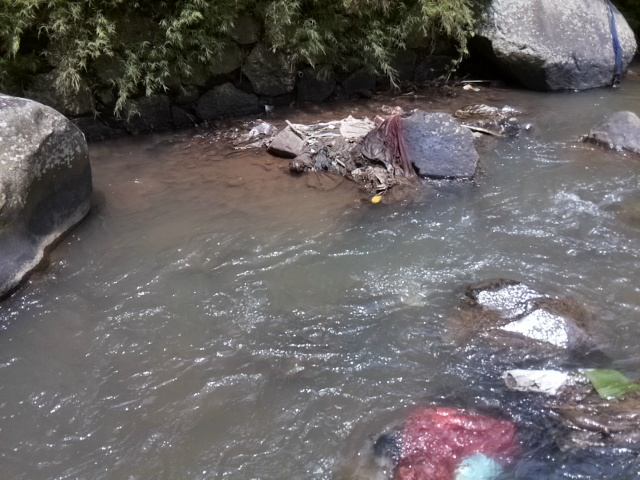Sampah_Plastik: (402, 404, 529, 480)
